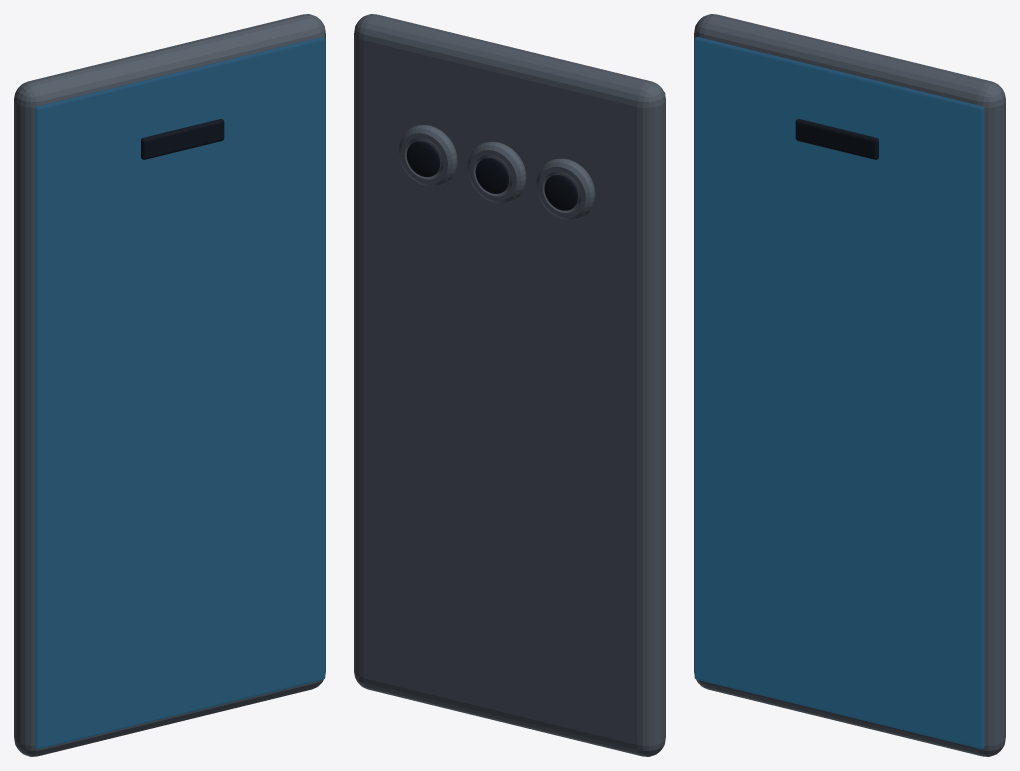
Rendered from diagnostic-phone.glb.
3 views of the same model, side by side, from view 1: azimuth 30°, elevation 25°; view 2: azimuth 150°, elevation 25°; view 3: azimuth 330°, elevation 25° (orthographic).
Visible parts, largest first — view 1: Display, Phone chassis, Front sensor island; view 2: Phone chassis, Camera ring +0.35, Camera ring -0.35, Camera ring +0.00, Camera lens -0.35, Camera lens +0.35, Camera lens +0.00; view 3: Display, Phone chassis, Front sensor island.
Part boxes in pixels (box(x1,y1,x2,y2)): Display: box(35, 37, 325, 749); Phone chassis: box(14, 14, 325, 756); Front sensor island: box(141, 119, 224, 159); Phone chassis: box(354, 14, 665, 756); Camera ring +0.35: box(398, 125, 457, 186); Camera ring -0.35: box(536, 158, 595, 220); Camera ring +0.00: box(467, 141, 526, 203); Camera lens -0.35: box(544, 174, 577, 210); Camera lens +0.35: box(406, 141, 440, 177); Camera lens +0.00: box(475, 158, 508, 193); Display: box(694, 37, 984, 749); Phone chassis: box(694, 14, 1005, 756); Front sensor island: box(795, 119, 878, 159).
Bounding box in the file's own units: 1.56 × 3.27 × 0.298.
